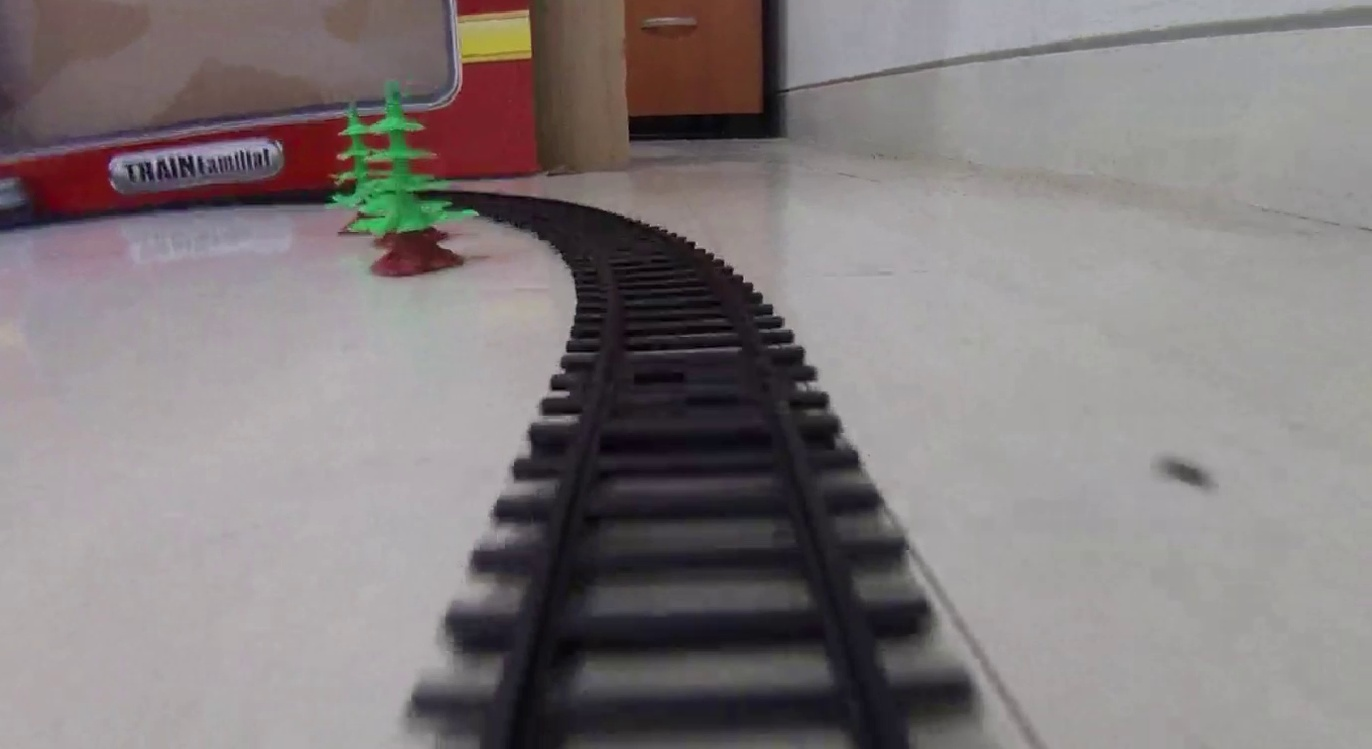tree: (367, 83, 457, 274)
